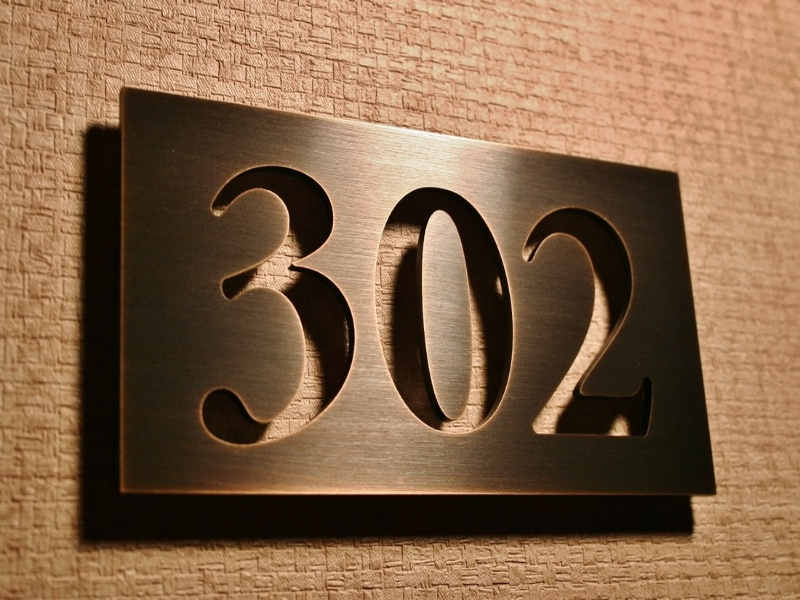letter: (181, 154, 363, 459), (523, 168, 674, 454), (370, 156, 515, 444)
